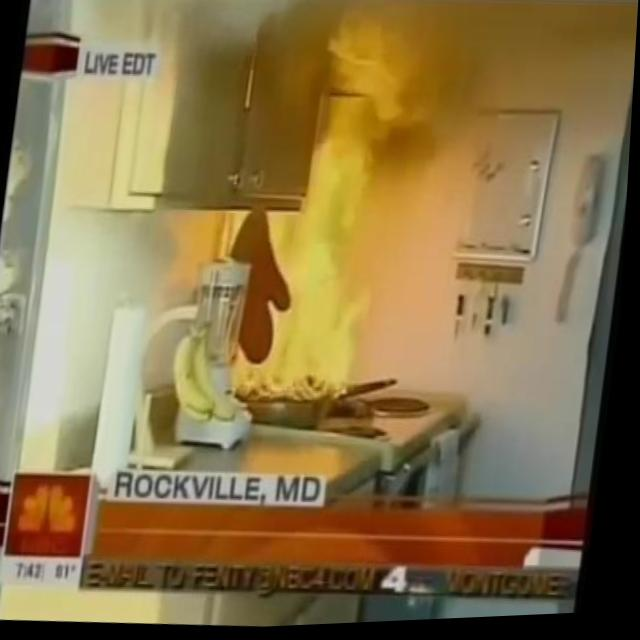fire: (237, 122, 387, 410)
